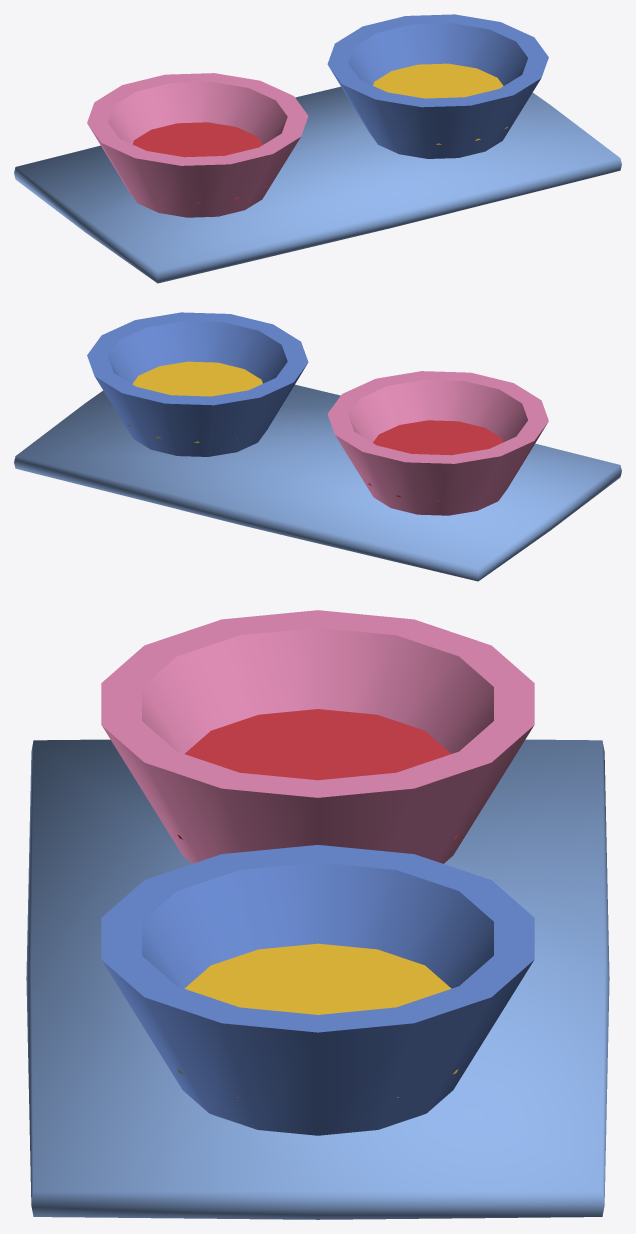
File: pet_bowl.glb
The picture shows the model from 3 angles, top to bottom: view 1: azimuth 30°, elevation 25°; view 2: azimuth 150°, elevation 25°; view 3: azimuth 270°, elevation 25°; orthographic projection. The views are drawn at different scales.
Visible parts, largest first — view 1: root; view 2: root; view 3: root.
Boxes of the visible parts, x1,y1,x2,y2 form: root: (14,14,621,283); root: (14,312,621,581); root: (26,610,609,1219).
Bounding box in the file's own units: 0.78 × 0.14 × 0.42.
